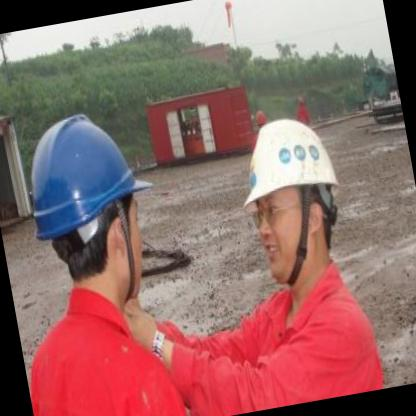helmet: (0, 81, 176, 317), (216, 87, 363, 294)
